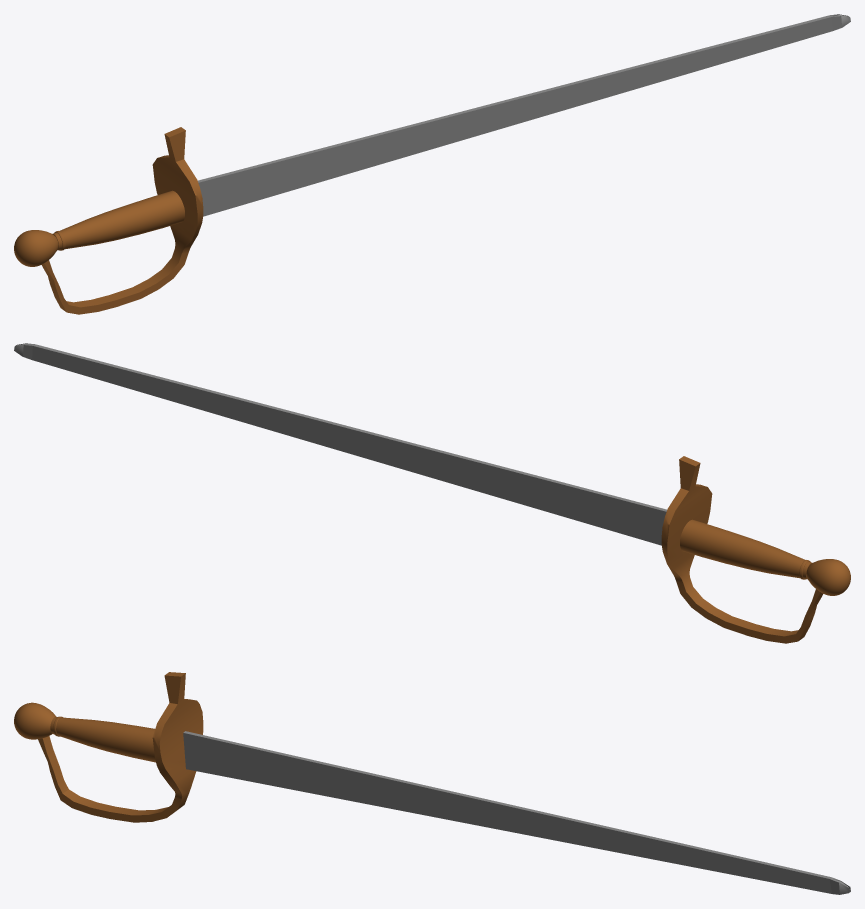
The model's file is сабля.fbx.
3 renders of one model, top to bottom at view 1: azimuth 30°, elevation 25°; view 2: azimuth 150°, elevation 25°; view 3: azimuth 330°, elevation 25°, orthographic.
Parts seen in each view (by area): view 1: Cube, Cube.001, Cylinder, Sphere; view 2: Cube, Cube.001, Cylinder, Sphere; view 3: Cube, Cube.001, Cylinder, Sphere.
Boxes of the visible parts, bbox=[...] form: Cube: bbox=[198, 14, 850, 216]; Cube.001: bbox=[42, 127, 203, 314]; Cylinder: bbox=[52, 190, 184, 250]; Sphere: bbox=[14, 230, 58, 266]; Cube: bbox=[14, 343, 666, 545]; Cube.001: bbox=[661, 456, 822, 643]; Cylinder: bbox=[680, 519, 812, 579]; Sphere: bbox=[806, 559, 850, 595]; Cube: bbox=[183, 731, 850, 894]; Cube.001: bbox=[38, 672, 203, 822]; Cylinder: bbox=[50, 716, 155, 762]; Sphere: bbox=[14, 702, 56, 739].
Size of the model in its own units: 474 by 86.37 by 42.2.
